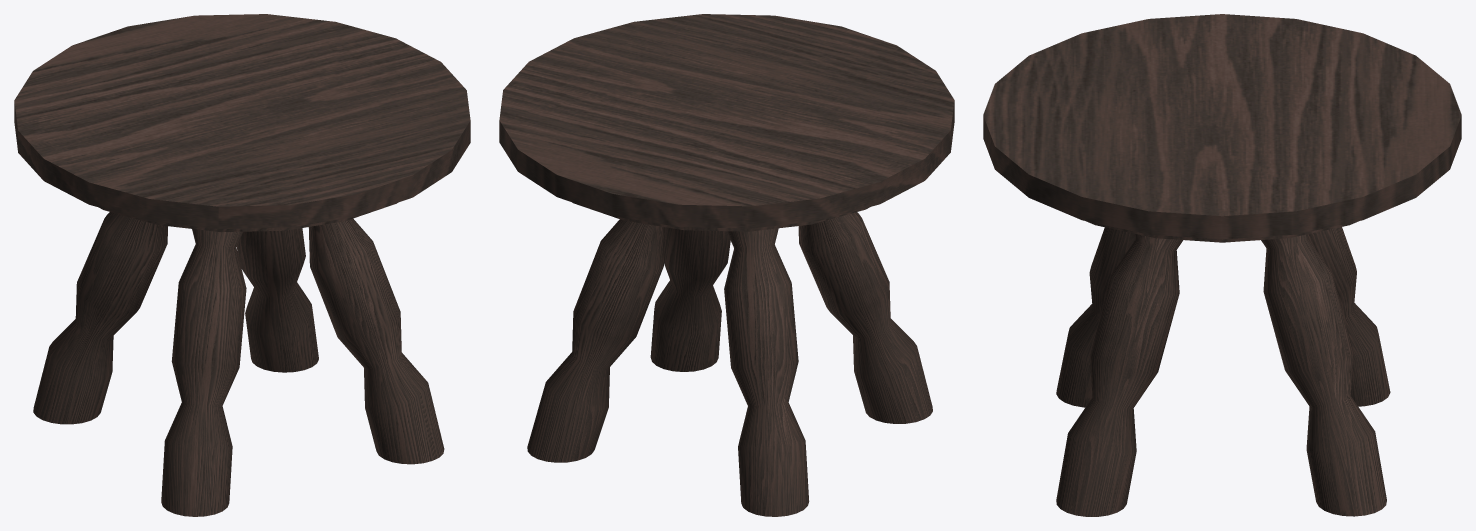
Rendered from banquinho.fbx.
The picture shows the model from 3 angles, left to right: view 1: azimuth 30°, elevation 25°; view 2: azimuth 150°, elevation 25°; view 3: azimuth 270°, elevation 25°; orthographic projection. The views are drawn at different scales.
Visible parts, largest first — view 1: pCylinder1, pCylinder6, pCylinder4, pCylinder5, pCylinder3; view 2: pCylinder1, pCylinder5, pCylinder3, pCylinder6, pCylinder4; view 3: pCylinder1, pCylinder4, pCylinder3, pCylinder5, pCylinder6.
Part boxes in pixels (x1,y1,x2,y2): pCylinder1: (14,14,470,232); pCylinder6: (161,229,246,516); pCylinder4: (308,218,444,464); pCylinder5: (33,212,167,424); pCylinder3: (237,228,318,372); pCylinder1: (499,14,954,231); pCylinder5: (724,228,809,516); pCylinder3: (527,219,664,462); pCylinder6: (798,212,932,423); pCylinder4: (650,227,730,371); pCylinder1: (983,14,1461,242); pCylinder4: (1056,234,1183,516); pCylinder3: (1261,234,1386,516); pCylinder5: (1307,227,1390,406); pCylinder6: (1056,227,1135,407).
Size of the model in its own units: 1.93 by 1.48 by 1.93.
1 material, 1 textured.
